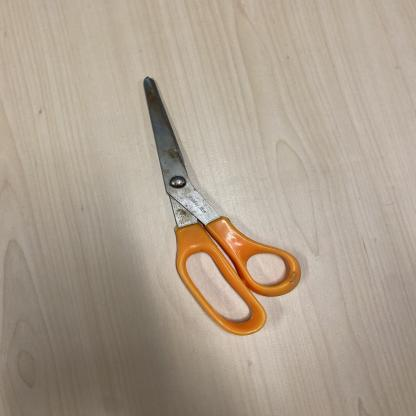scissors: (142, 78, 305, 336)
